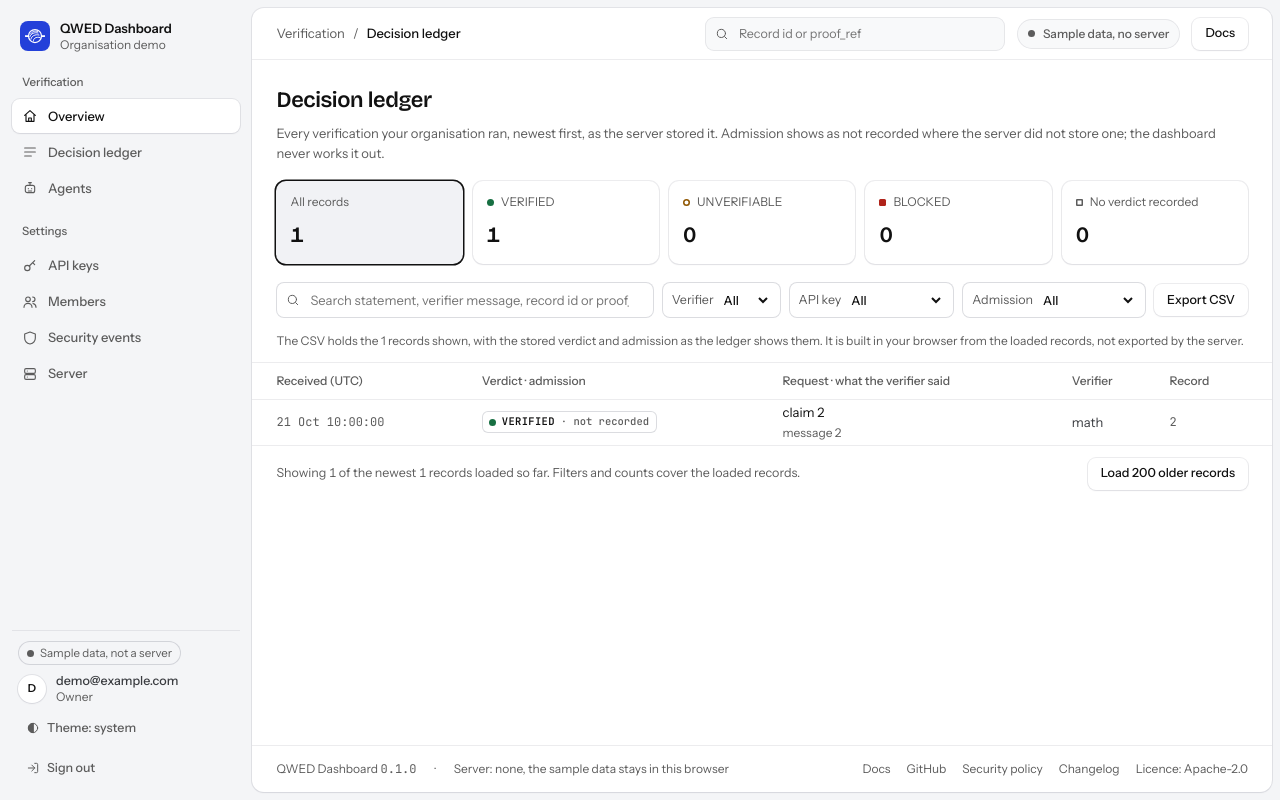
Test: LedgerPage › loads older records with the cursor the server gave
Expected: the link "claim 1" is not shown
Click the button "Load 200 older records" at {"x": 1168, "y": 474}, box [1088,458,1248,490]
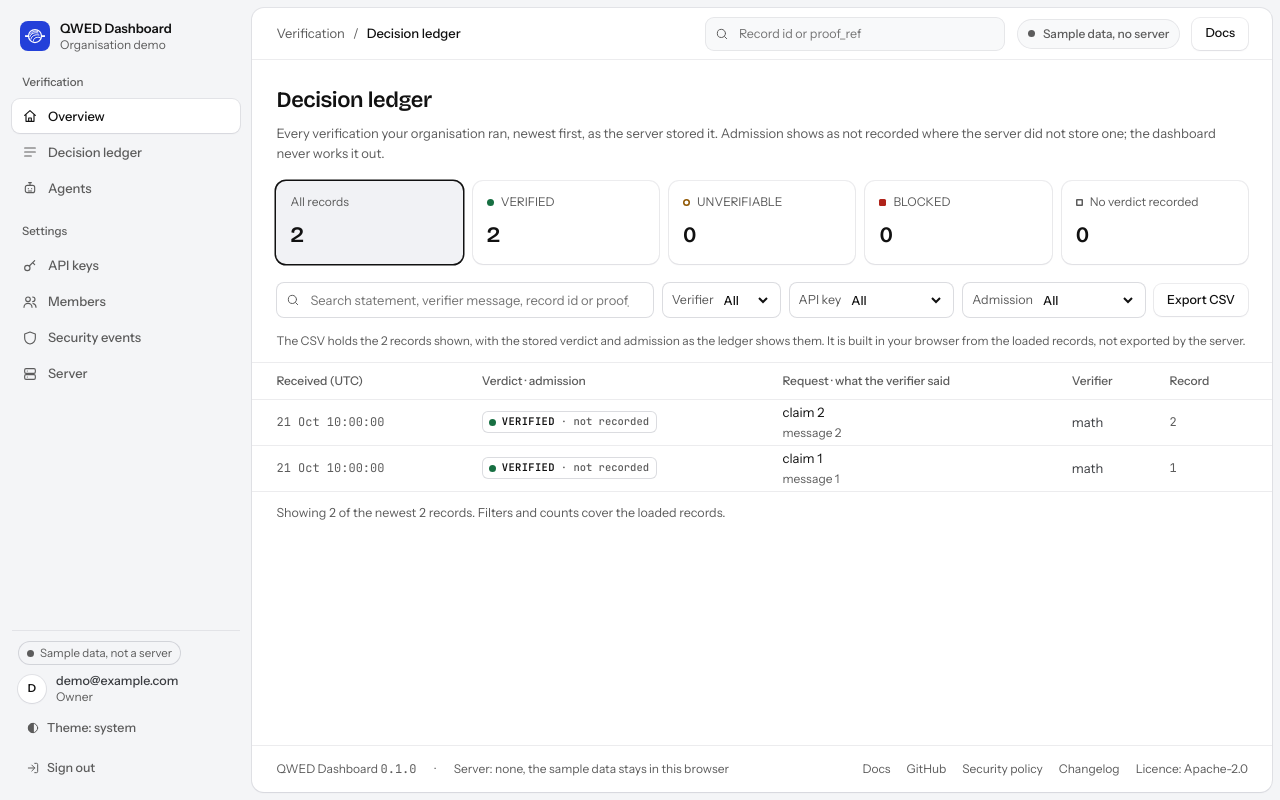
Expected: the row "claim 1" is shown, [252,445,1272,491]
Expected: the button "older records" is gone
